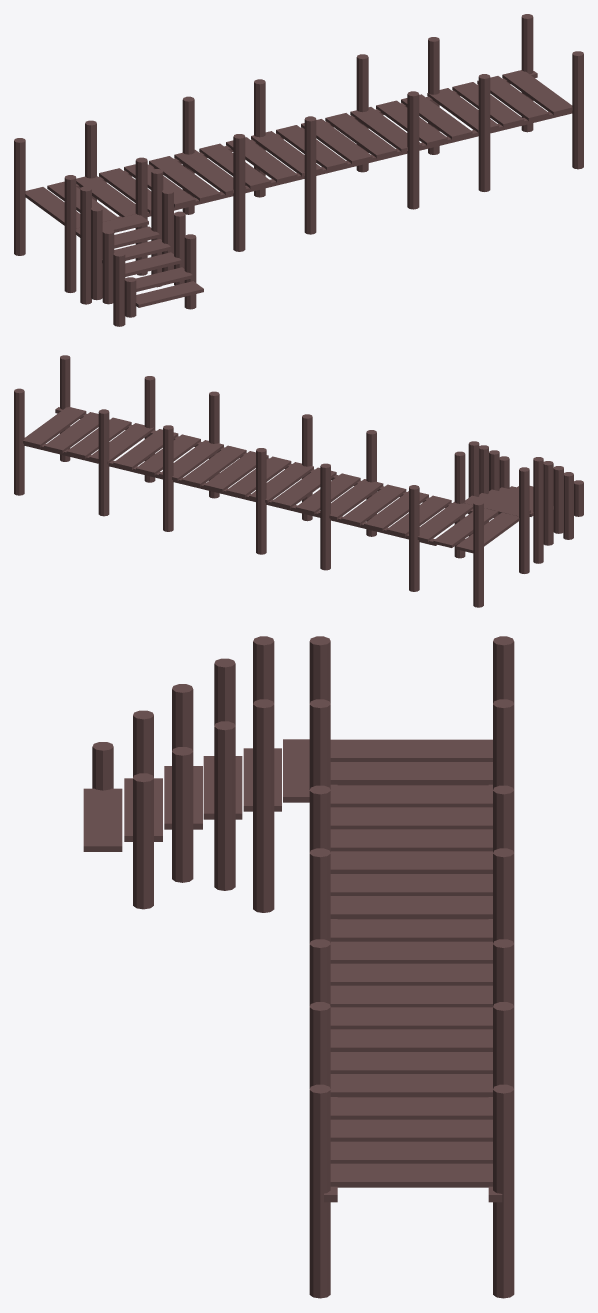
File: muelle.fbx
3 renders of one model, top to bottom at view 1: azimuth 30°, elevation 25°; view 2: azimuth 150°, elevation 25°; view 3: azimuth 270°, elevation 25°, orthographic. The views are drawn at different scales.
Parts seen in each view (by area): view 1: pasted__pasted__pasted__pasted__pasted__pasted__pasted__past (×27), pasted__pasted__pasted__pasted__pasted__pasted__pasted__pCyl (×3), pasted__pasted__pasted__pasted__pasted__pasted__pasted__pCub (×3), pasted__pasted__pasted__pasted__pasted__pasted__pCylinder1, pasted__pasted__pasted__pasted__pasted__pCylinder2, pasted__pasted__pasted__pasted__pCylinder2, pasted__pasted__pCylinder1, pCube1, pasted__pasted__pasted__pCylinder1, pasted__pasted__pasted__pasted__pasted__pasted__pCube1, pasted__pasted__pasted__pasted__pasted__pasted__pCylinder2, pasted__pasted__pasted__pasted__pasted__pCylinder1 (+8 smaller); view 2: pasted__pasted__pasted__pasted__pasted__pasted__pasted__past (×27), pasted__pasted__pasted__pasted__pasted__pasted__pasted__pCub (×3), pasted__pasted__pasted__pasted__pasted__pasted__pasted__pCyl (×3), pasted__pasted__pasted__pasted__pasted__pasted__pCylinder1, pasted__pasted__pasted__pasted__pasted__pCylinder2, pasted__pasted__pasted__pasted__pCylinder2, pasted__pasted__pasted__pasted__pasted__pasted__pCube1, pasted__pasted__pasted__pCylinder1, pasted__pasted__pCylinder1, pasted__pasted__pasted__pasted__pasted__pasted__pCylinder2, pasted__pasted__pasted__pasted__pasted__pCylinder1, pasted__pasted__pasted__pasted__pasted__pCube1 (+3 smaller); view 3: pasted__pasted__pasted__pasted__pasted__pasted__pasted__past (×26), pasted__pasted__pasted__pasted__pasted__pasted__pasted__pCub (×3), pasted__pasted__pasted__pasted__pasted__pasted__pasted__pCyl (×3), pasted__pasted__pasted__pasted__pasted__pasted__pCylinder2, pasted__pasted__pasted__pasted__pasted__pasted__pCube1, pasted__pasted__pasted__pasted__pasted__pCylinder1, pasted__pasted__pasted__pasted__pCylinder1, pasted__pasted__pasted__pCylinder2, pCube1, pasted__pasted__pasted__pasted__pasted__pCube1, pasted__pasted__pasted__pasted__pasted__pasted__pCylinder1, pasted__pasted__pasted__pasted__pasted__pCylinder2 (+8 smaller).
Part boxes in pixels (x1=…): pasted__pasted__pasted__pasted__pasted__pasted__pasted__past (×27): x1=85, y1=14, x2=583, y2=234; pasted__pasted__pasted__pasted__pasted__pasted__pasted__pCyl (×3): x1=14, y1=134, x2=245, y2=275; pasted__pasted__pasted__pasted__pasted__pasted__pasted__pCub (×3): x1=47, y1=150, x2=246, y2=221; pasted__pasted__pasted__pasted__pasted__pasted__pCylinder1: x1=64, y1=175, x2=76, y2=292; pasted__pasted__pasted__pasted__pasted__pCylinder2: x1=80, y1=186, x2=91, y2=304; pasted__pasted__pasted__pasted__pCylinder2: x1=91, y1=206, x2=102, y2=300; pasted__pasted__pCylinder1: x1=113, y1=251, x2=125, y2=326; pCube1: x1=135, y1=281, x2=203, y2=307; pasted__pasted__pasted__pCylinder1: x1=102, y1=229, x2=114, y2=304; pasted__pasted__pasted__pasted__pasted__pasted__pCube1: x1=25, y1=187, x2=80, y2=228; pasted__pasted__pasted__pasted__pasted__pasted__pCylinder2: x1=151, y1=169, x2=163, y2=287; pasted__pasted__pasted__pasted__pasted__pCylinder1: x1=162, y1=189, x2=173, y2=271; pasted__pasted__pasted__pasted__pasted__pasted__pasted__past (×27): x1=14, y1=355, x2=451, y2=591; pasted__pasted__pasted__pasted__pasted__pasted__pasted__pCub (×3): x1=318, y1=479, x2=498, y2=547; pasted__pasted__pasted__pasted__pasted__pasted__pasted__pCyl (×3): x1=366, y1=430, x2=483, y2=607; pasted__pasted__pasted__pasted__pasted__pasted__pCylinder1: x1=519, y1=467, x2=529, y2=573; pasted__pasted__pasted__pasted__pasted__pCylinder2: x1=533, y1=457, x2=543, y2=563; pasted__pasted__pasted__pasted__pCylinder2: x1=543, y1=461, x2=553, y2=545; pasted__pasted__pasted__pasted__pasted__pasted__pCube1: x1=455, y1=512, x2=519, y2=553; pasted__pasted__pasted__pCylinder1: x1=553, y1=466, x2=563, y2=533; pasted__pasted__pCylinder1: x1=563, y1=472, x2=573, y2=539; pasted__pasted__pasted__pasted__pasted__pasted__pCylinder2: x1=468, y1=441, x2=479, y2=536; pasted__pasted__pasted__pasted__pasted__pCylinder1: x1=479, y1=445, x2=488, y2=525; pasted__pasted__pasted__pasted__pasted__pCube1: x1=464, y1=495, x2=530, y2=516; pasted__pasted__pasted__pasted__pasted__pasted__pasted__past (×26): x1=309, y1=699, x2=514, y2=1298; pasted__pasted__pasted__pasted__pasted__pasted__pasted__pCub (×3): x1=330, y1=762, x2=492, y2=895; pasted__pasted__pasted__pasted__pasted__pasted__pasted__pCyl (×3): x1=309, y1=636, x2=514, y2=852; pasted__pasted__pasted__pasted__pasted__pasted__pCylinder2: x1=253, y1=699, x2=274, y2=912; pasted__pasted__pasted__pasted__pasted__pasted__pCube1: x1=330, y1=739, x2=492, y2=761; pasted__pasted__pasted__pasted__pasted__pCylinder1: x1=214, y1=721, x2=235, y2=890; pasted__pasted__pasted__pasted__pCylinder1: x1=172, y1=747, x2=193, y2=882; pasted__pasted__pasted__pCylinder2: x1=133, y1=773, x2=153, y2=909; pCube1: x1=83, y1=788, x2=122, y2=851; pasted__pasted__pasted__pasted__pasted__pCube1: x1=283, y1=739, x2=309, y2=802; pasted__pasted__pasted__pasted__pasted__pasted__pCylinder1: x1=309, y1=636, x2=330, y2=703; pasted__pasted__pasted__pasted__pasted__pCylinder2: x1=253, y1=636, x2=274, y2=703.
Bounding box in the file's own units: 41.27 × 8.61 × 16.39.
